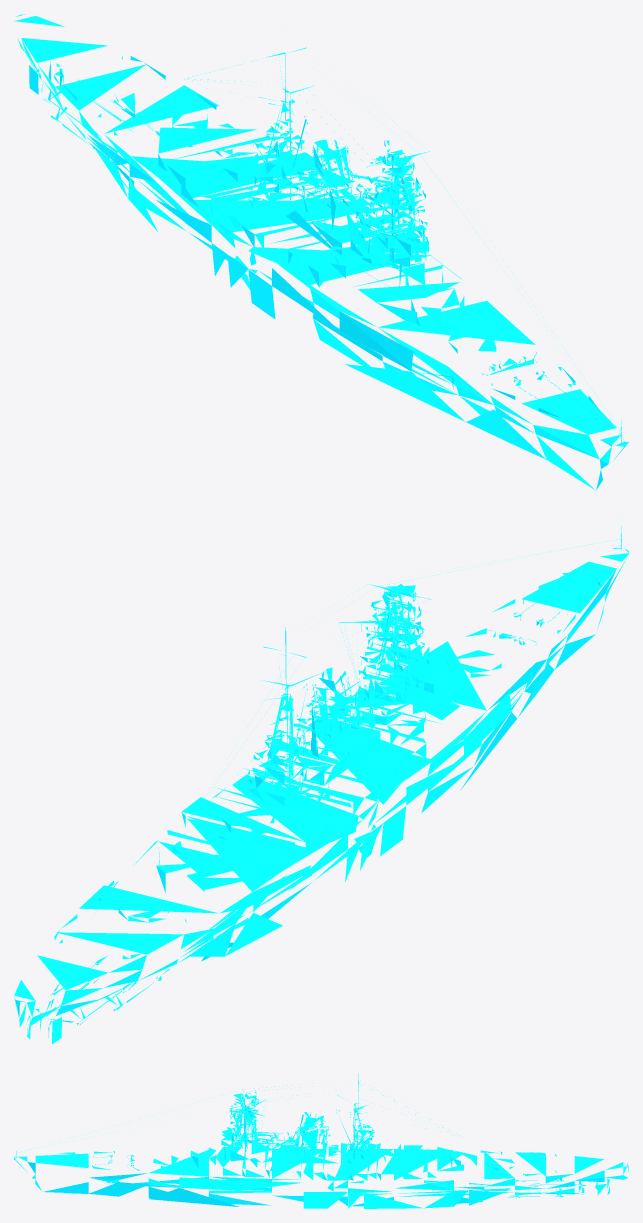
Rendered from Amagi.glb.
3 renders of one model, top to bottom at view 1: azimuth 30°, elevation 25°; view 2: azimuth 150°, elevation 25°; view 3: azimuth 270°, elevation 25°, orthographic. The views are drawn at different scales.
Size of the model in its own units: 2.22 by 3.7 by 17.05.
